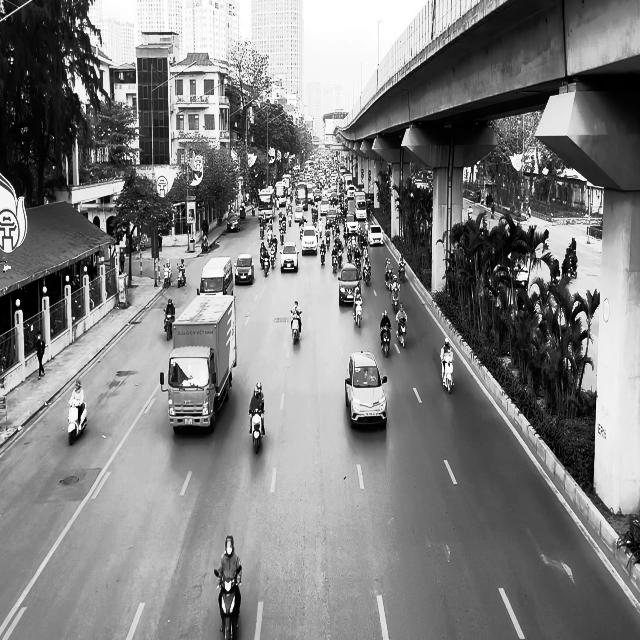car: (344, 350, 388, 429), (338, 263, 361, 305), (235, 253, 254, 285), (280, 242, 298, 272), (302, 224, 318, 256)
motorbike: (214, 566, 241, 640), (68, 399, 87, 445), (248, 408, 264, 454), (441, 354, 454, 394), (290, 310, 301, 344), (380, 326, 391, 358), (163, 309, 174, 340), (396, 318, 407, 348), (353, 298, 362, 328), (177, 264, 186, 287), (163, 266, 172, 286)
truck: (160, 292, 236, 434)
